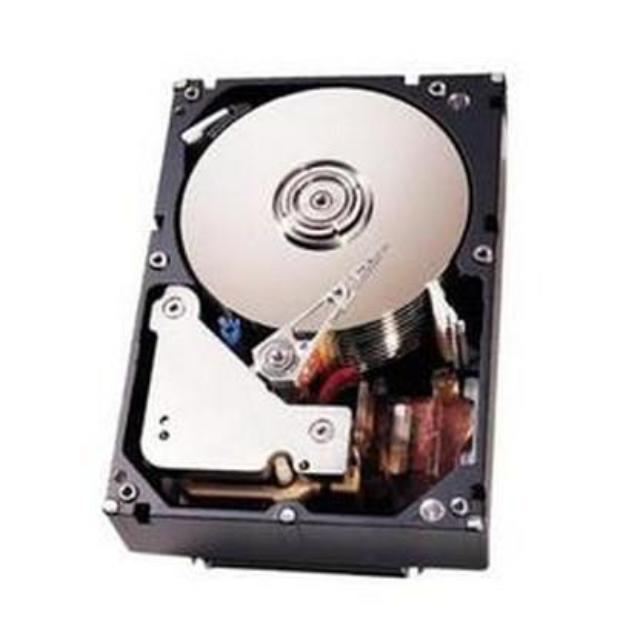DISK: (102, 69, 507, 576)
